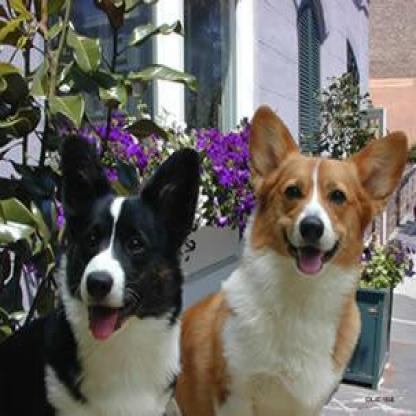Cardigan: (178, 99, 414, 413), (0, 126, 203, 413)
